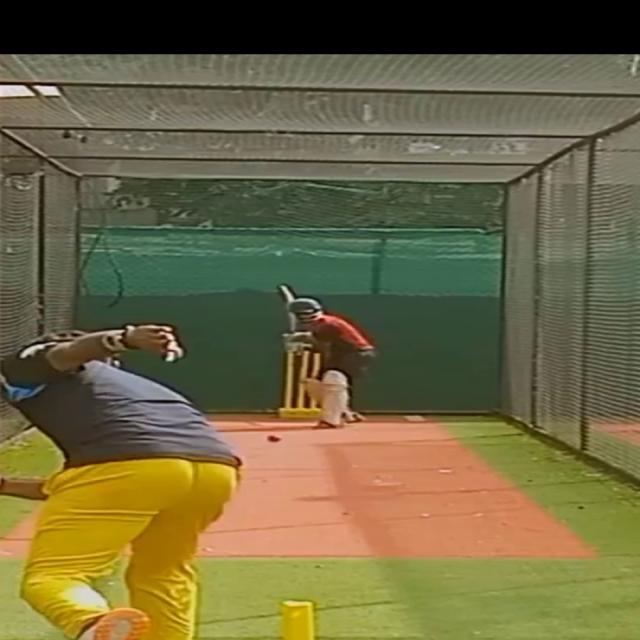ball: (263, 434, 281, 444)
stump: (282, 351, 320, 414)
